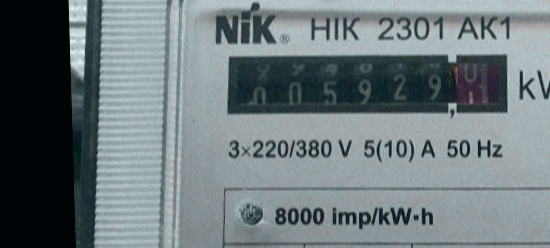0: (286, 78, 306, 107), (249, 81, 271, 105), (462, 60, 482, 84)
2: (390, 70, 410, 104)
5: (321, 77, 340, 106)
9: (354, 75, 376, 106), (426, 70, 446, 103), (254, 61, 272, 80)
screen: (220, 42, 518, 129)
